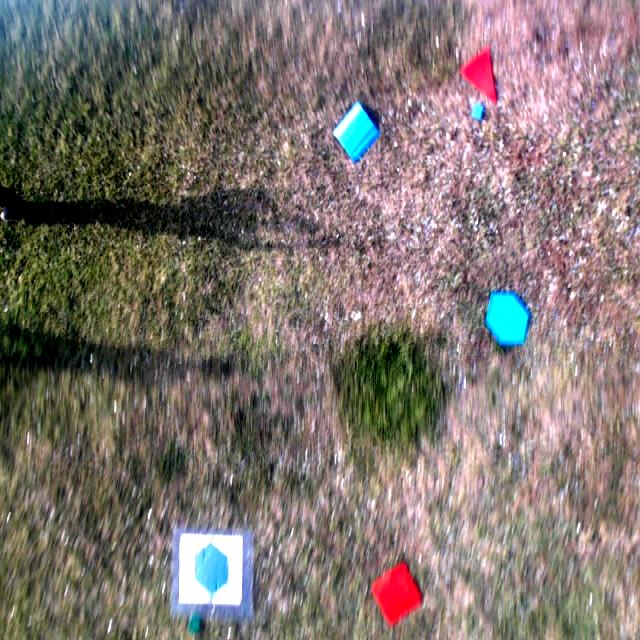blue_hexagon: (486, 292, 530, 348), (194, 540, 229, 596)
blue_square: (330, 99, 379, 165), (472, 102, 484, 122)
red_square: (370, 560, 425, 626), (461, 47, 496, 106)
